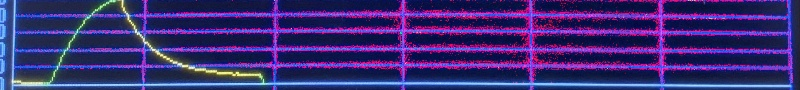normal_volume: (4, 0, 264, 89)
